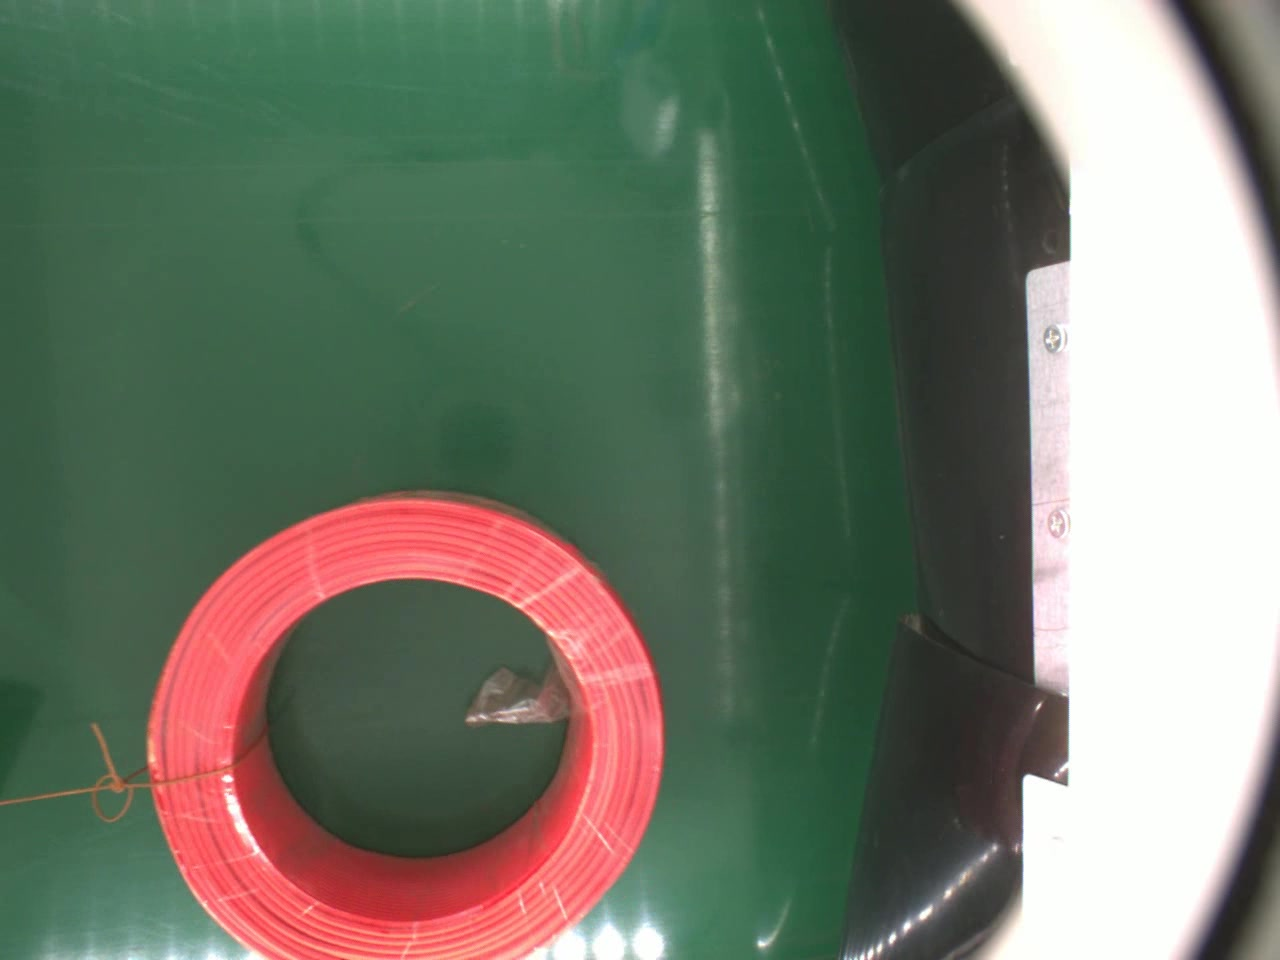red: (141, 491, 673, 957)
